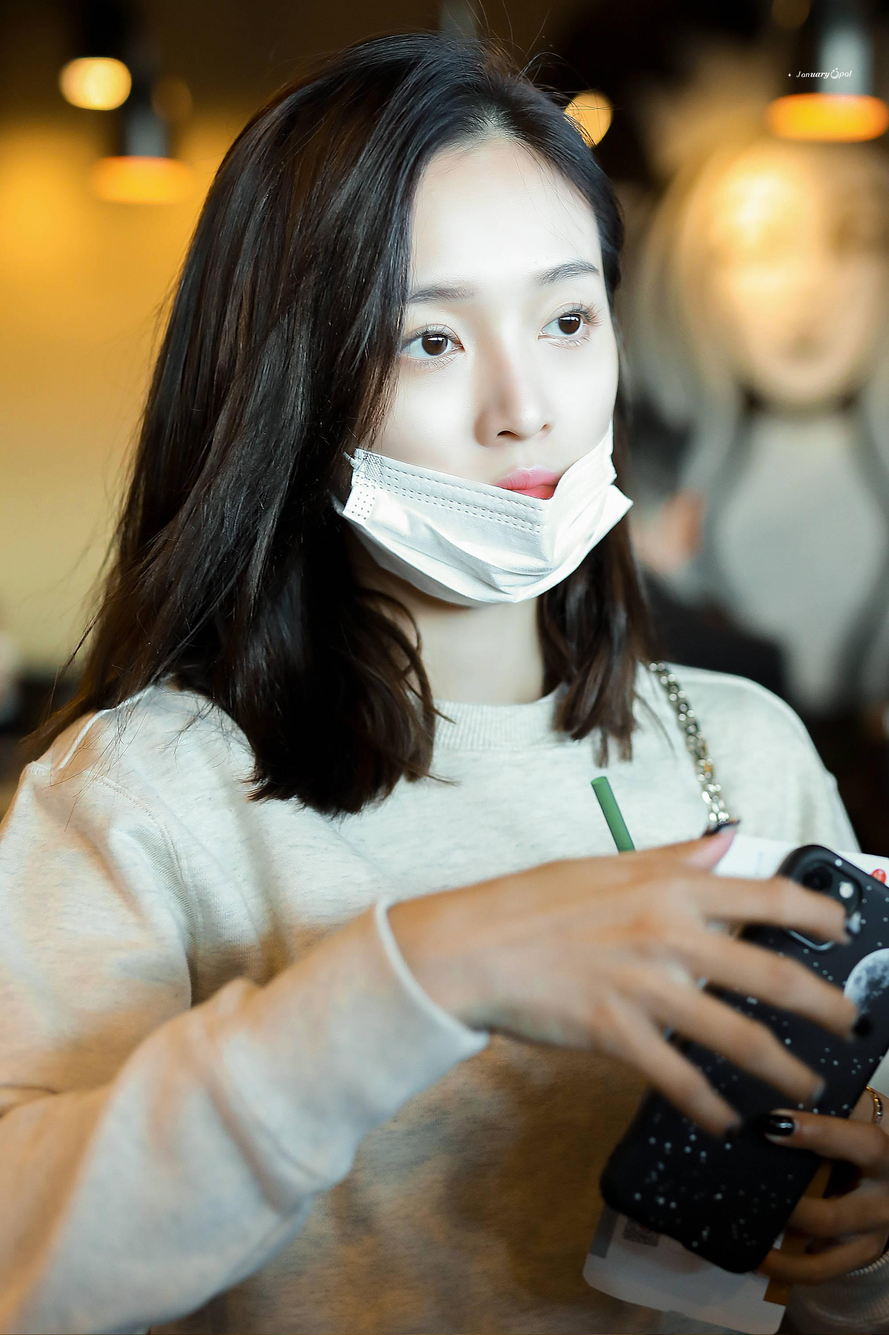WRONG: (341, 190, 621, 603)
